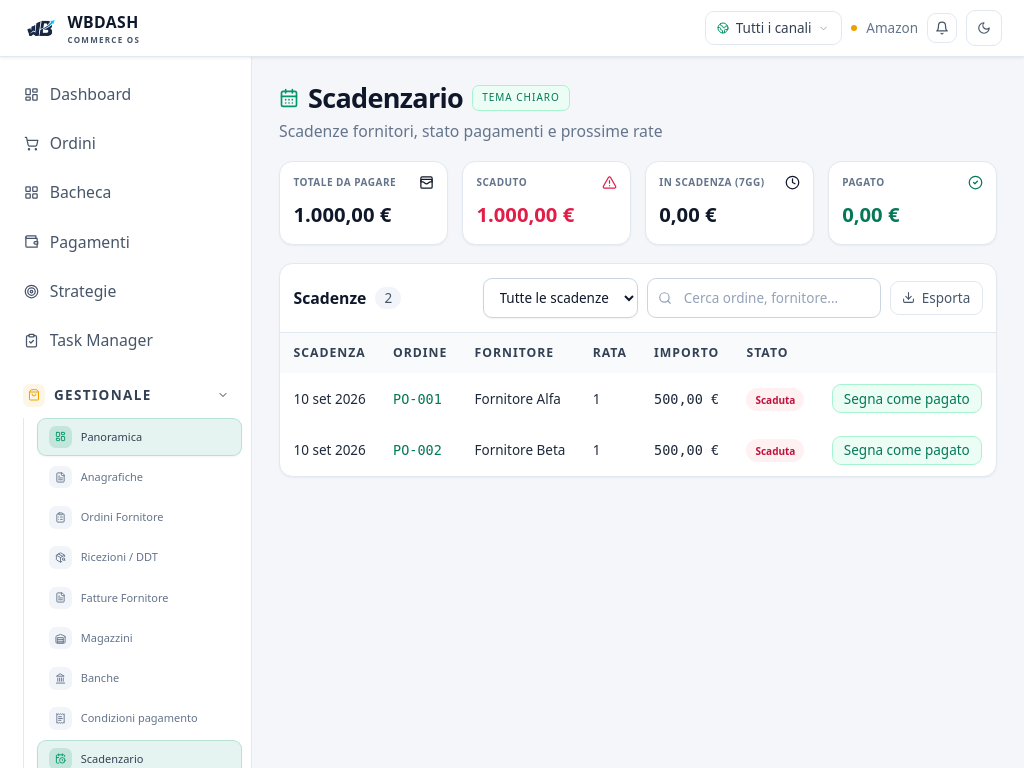
Test: ScadenzarioPage › filters rows by supplier name via the search box
This screenshot has width=1024, height=768.
Check: the text "Fornitore Alfa" is shown, box [461, 373, 579, 424]
Check: the text "Fornitore Beta" is shown, box [461, 424, 579, 476]
Type "Beta" into the field with placeholder "Cerca ordine, fornitore..." at (764, 298), box [647, 278, 881, 318]
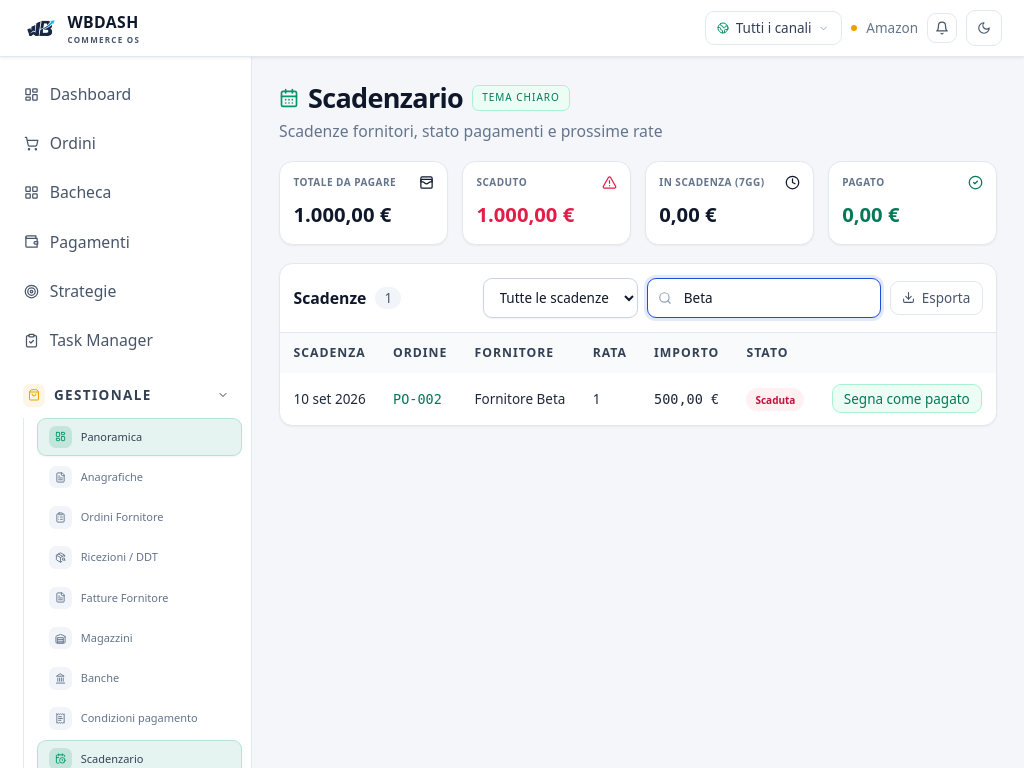
Check: the text "Fornitore Beta" is shown, box [461, 373, 579, 424]
Check: the text "Fornitore Alfa" is gone
